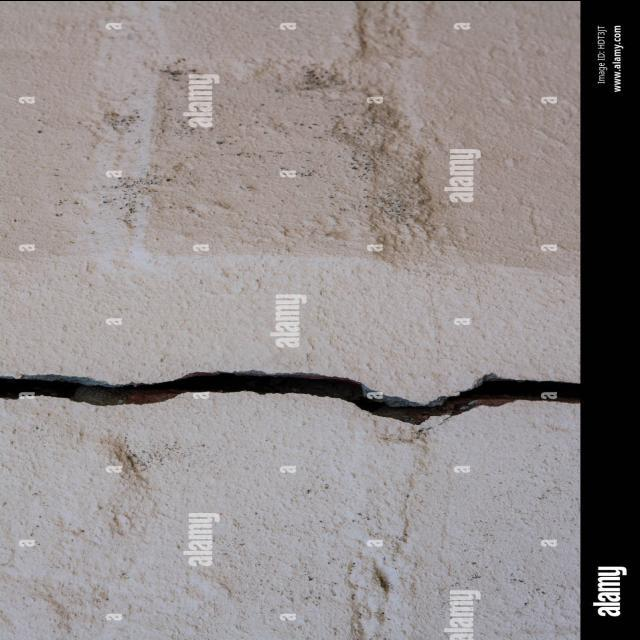Crack: (1, 368, 580, 425)
